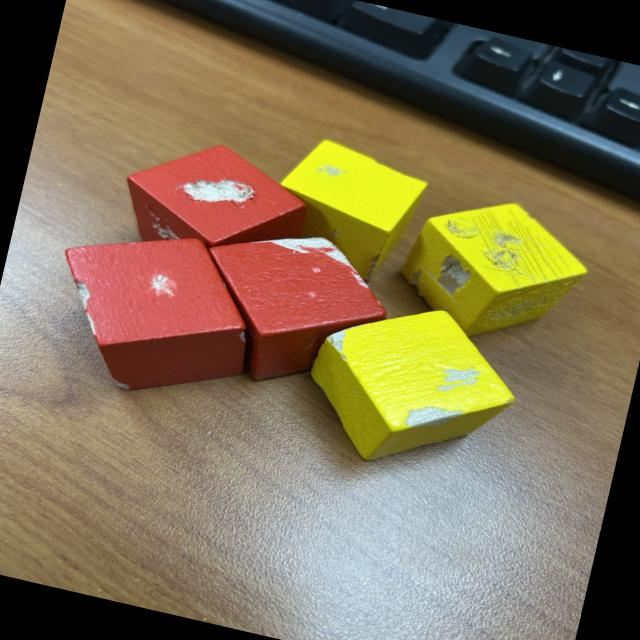broken: (292, 282, 532, 491), (36, 208, 270, 417), (180, 212, 403, 407), (388, 178, 599, 359), (112, 125, 320, 277), (260, 130, 434, 294)
